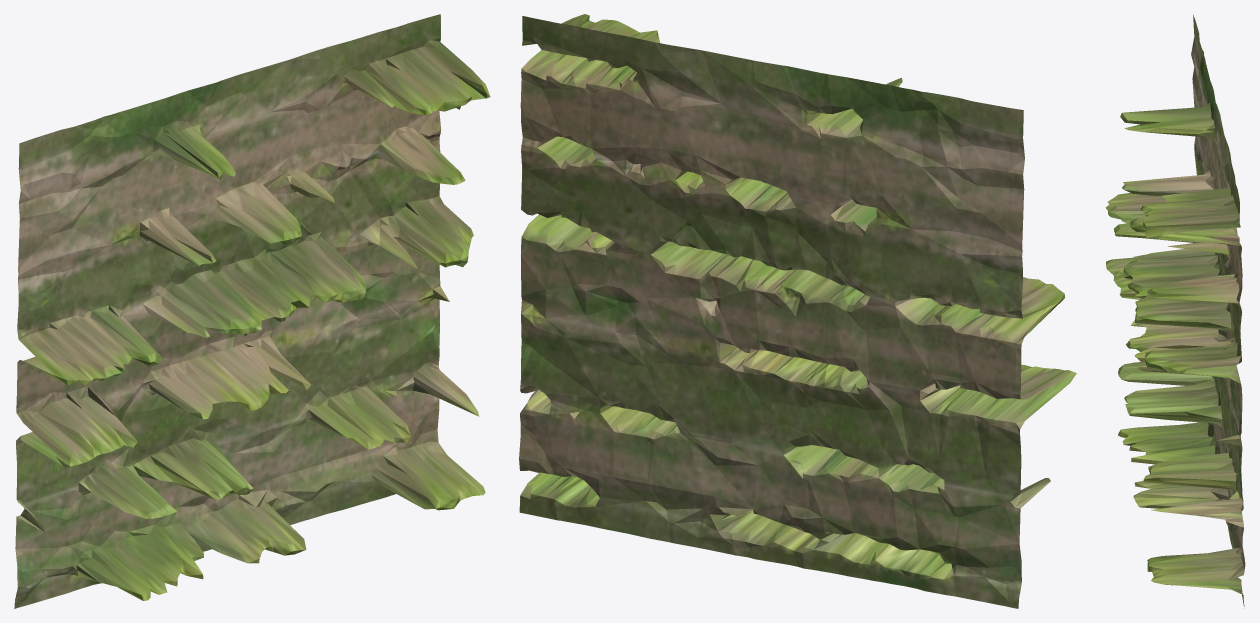
The model's file is map_120_30.obj.
The picture shows the model from 3 angles, left to right: view 1: azimuth 30°, elevation 25°; view 2: azimuth 150°, elevation 25°; view 3: azimuth 270°, elevation 25°; orthographic projection. The views are drawn at different scales.
Visible parts, largest first — view 1: grp1; view 2: grp1; view 3: grp1.
Boxes of the visible parts, <box> form: grp1: <box>14,14,490,608</box>; grp1: <box>519,14,1076,608</box>; grp1: <box>1105,14,1245,608</box>.
Bounding box in the file's own units: 10 × 10 × 3.13.
Materials: 1 (1 with a texture image).
